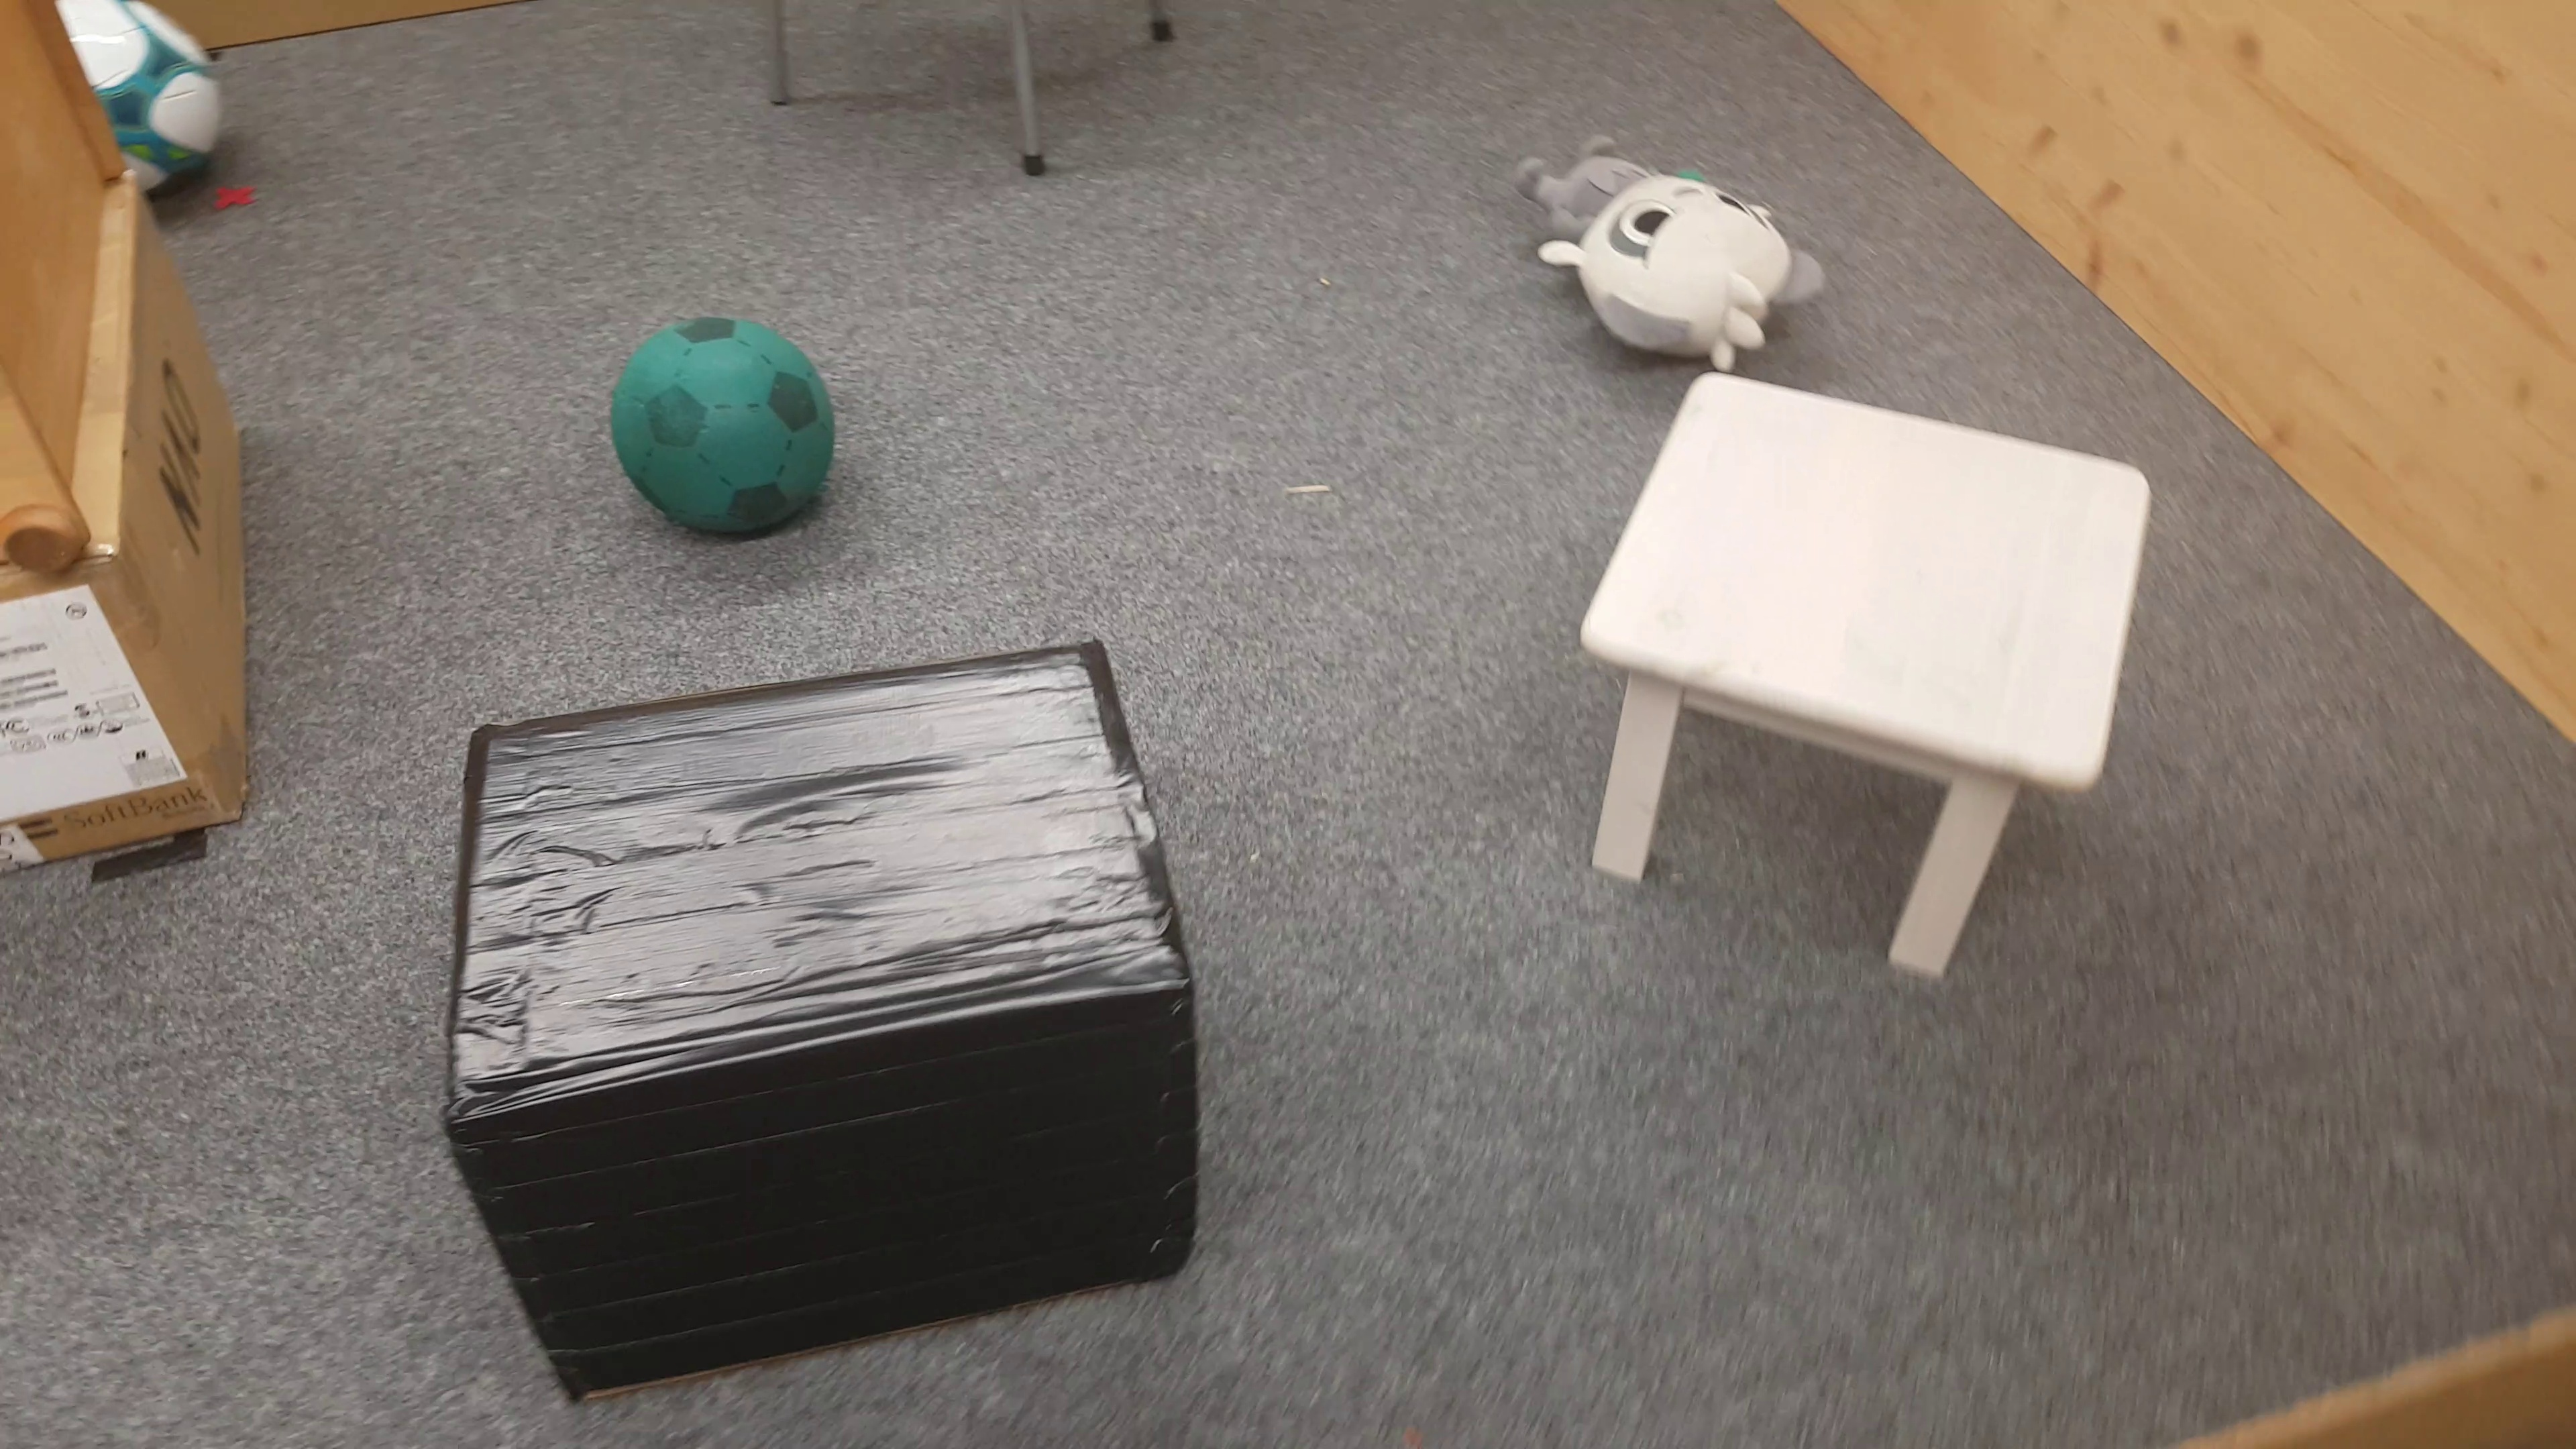grasp: (1511, 122, 1838, 364)
kick: (612, 320, 847, 548), (71, 0, 265, 189)
push: (444, 646, 1208, 1398)
